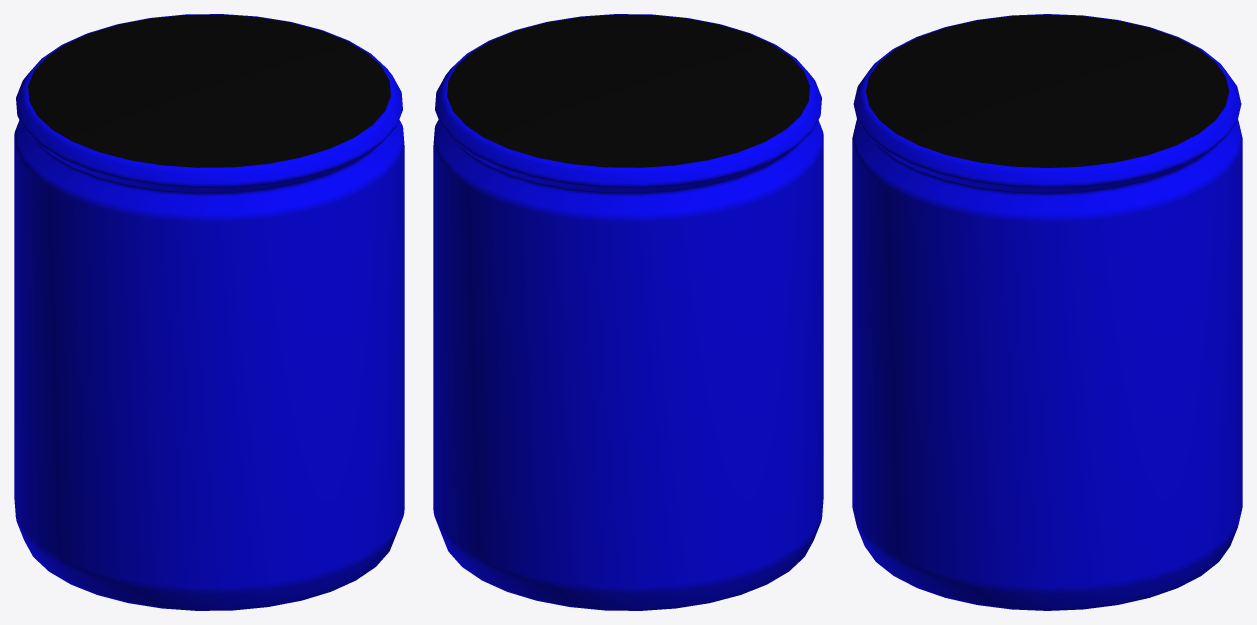
File: Barrel.fbx
The picture shows the model from 3 angles, left to right: view 1: azimuth 30°, elevation 25°; view 2: azimuth 150°, elevation 25°; view 3: azimuth 270°, elevation 25°; orthographic projection.
Visible parts, largest first — view 1: Barrel; view 2: Barrel; view 3: Barrel.
Boxes of the visible parts, x1,y1,x2,y2 form: Barrel: (14, 14, 404, 610); Barrel: (433, 14, 823, 610); Barrel: (852, 14, 1242, 610).
Size of the model in its own units: 64 by 80 by 64.
